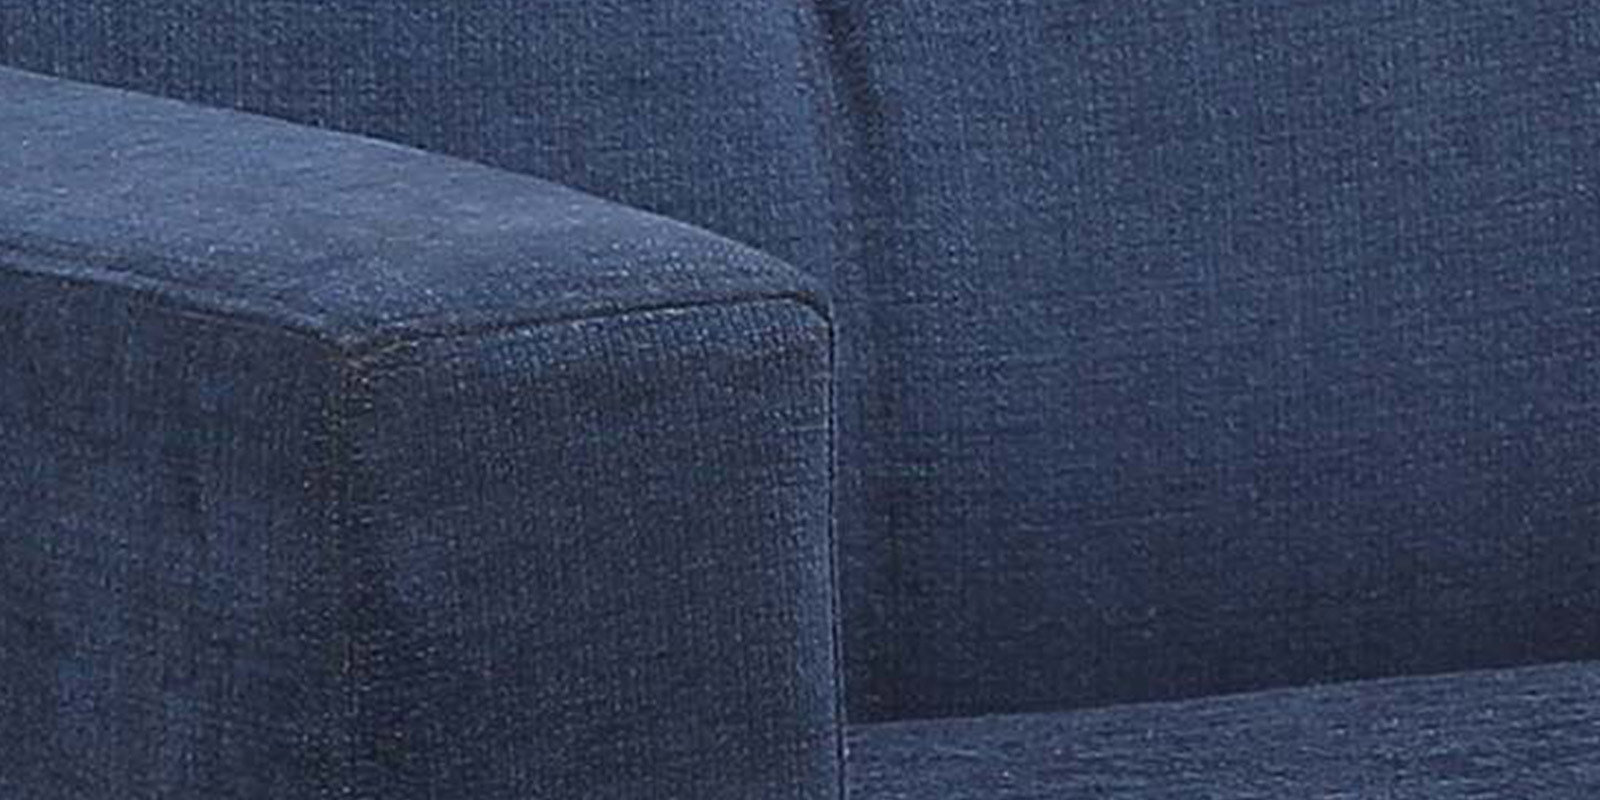Berlin Three Seater Sofa in Blue Colour by Crystal Furnitech: (31, 32, 1362, 782)
